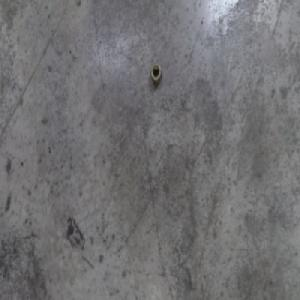Nut: (149, 61, 162, 86)
